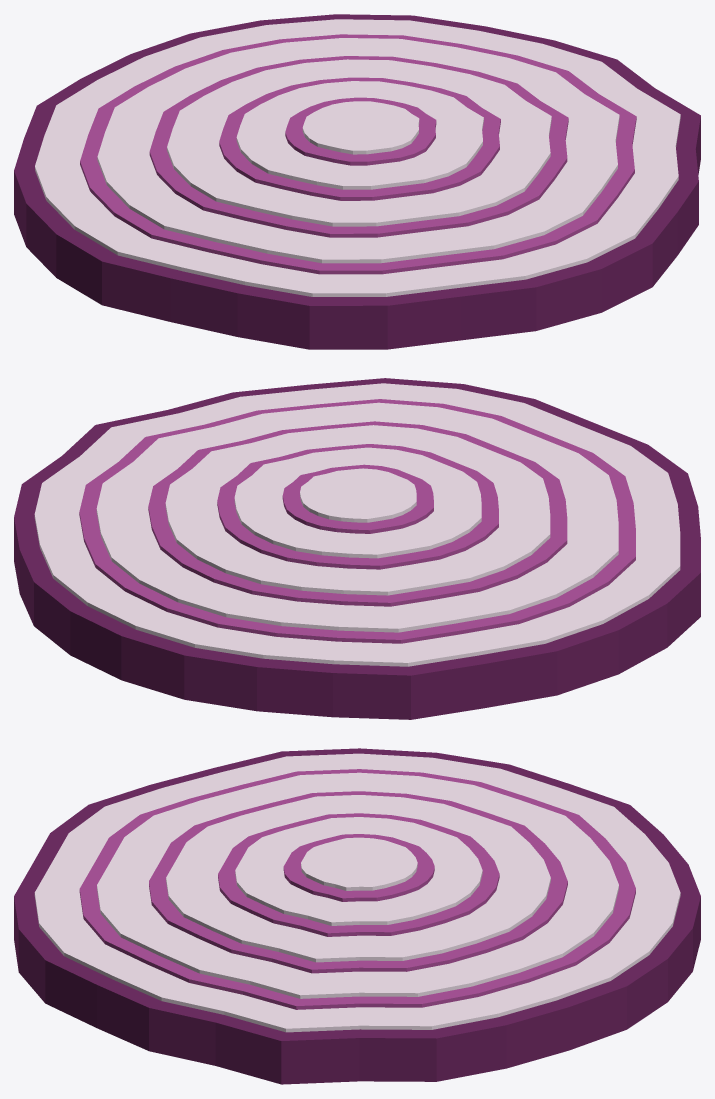
File: Onion.fbx
3 renders of one model, top to bottom at view 1: azimuth 30°, elevation 25°; view 2: azimuth 150°, elevation 25°; view 3: azimuth 270°, elevation 25°, orthographic. The views are drawn at different scales.
Visible parts, largest first — view 1: Top_F6E6F2, Top_6E2662, Top_B0509E; view 2: Top_F6E6F2, Top_6E2662, Top_B0509E; view 3: Top_F6E6F2, Top_6E2662, Top_B0509E.
Boxes of the visible parts, x1,y1,x2,y2 form: Top_F6E6F2: (35, 19, 680, 296); Top_6E2662: (14, 14, 700, 349); Top_B0509E: (80, 34, 636, 274); Top_F6E6F2: (34, 383, 680, 666); Top_6E2662: (14, 378, 700, 719); Top_B0509E: (79, 399, 635, 643); Top_F6E6F2: (34, 753, 680, 1032); Top_6E2662: (14, 748, 700, 1084); Top_B0509E: (79, 769, 635, 1009).
Size of the model in its own units: 2 by 0.245 by 1.98.
